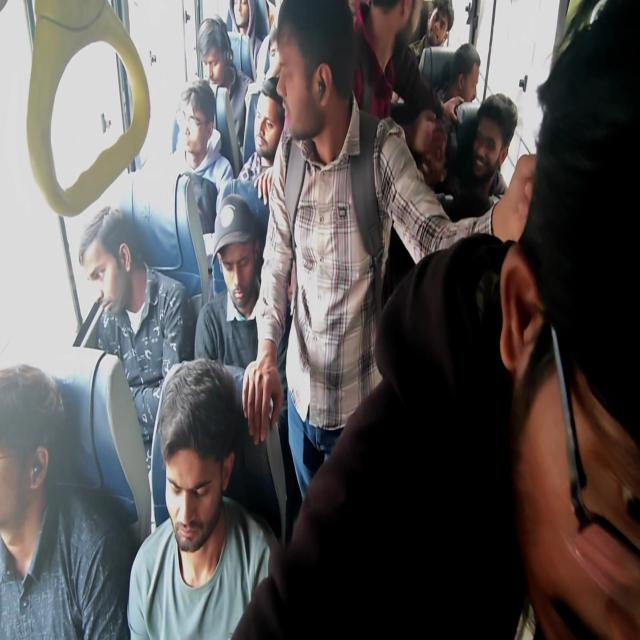person: (515, 90, 640, 461), (120, 332, 230, 581), (0, 367, 50, 573), (276, 21, 342, 139), (218, 208, 282, 326), (85, 216, 142, 334), (253, 96, 314, 186), (366, 1, 418, 64), (185, 102, 222, 182), (480, 99, 518, 167), (193, 18, 226, 88), (235, 0, 284, 39), (262, 40, 294, 92), (446, 49, 480, 94), (425, 6, 453, 41)
